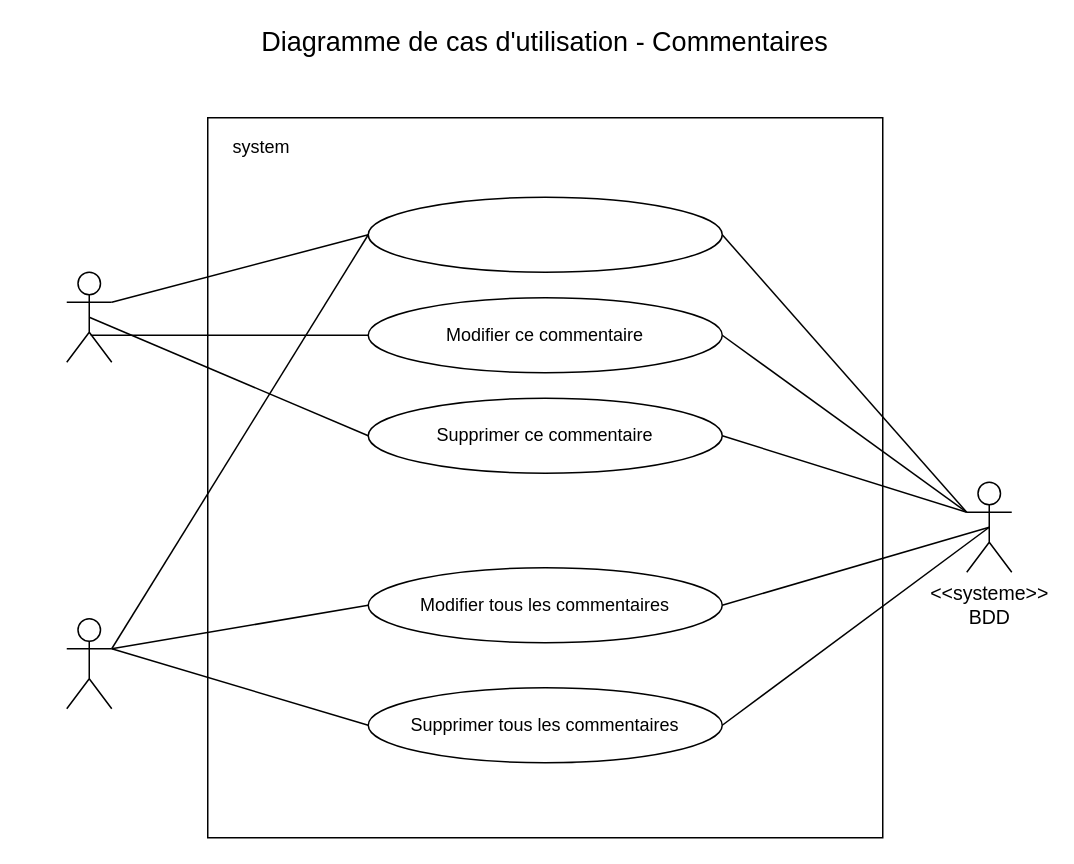
Some shapes in this 1074 by 864 pixel diagram are drawn without their labels. Each missing label, with the centre of its shape:
"Administrateur" goes at [88,663].
"Ajouter un commentaire" goes at [544,234].
"Utilisateur" goes at [88,316].
